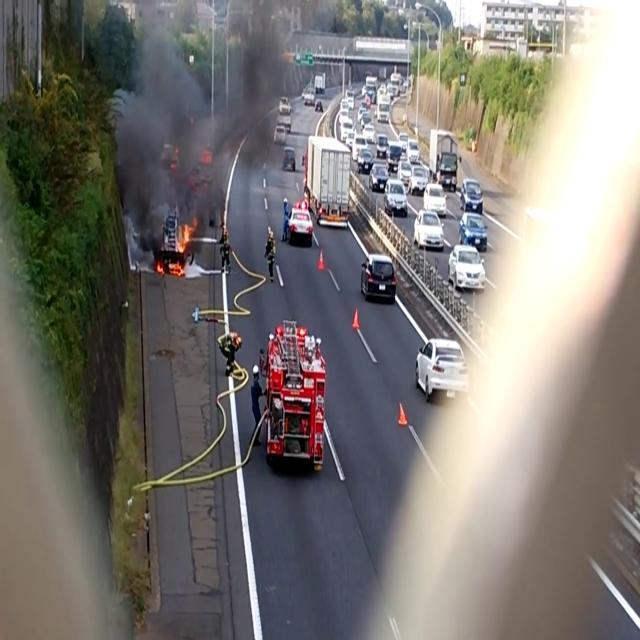Fire: (171, 216, 197, 273), (398, 396, 408, 432)
Smoke: (104, 1, 300, 220)
